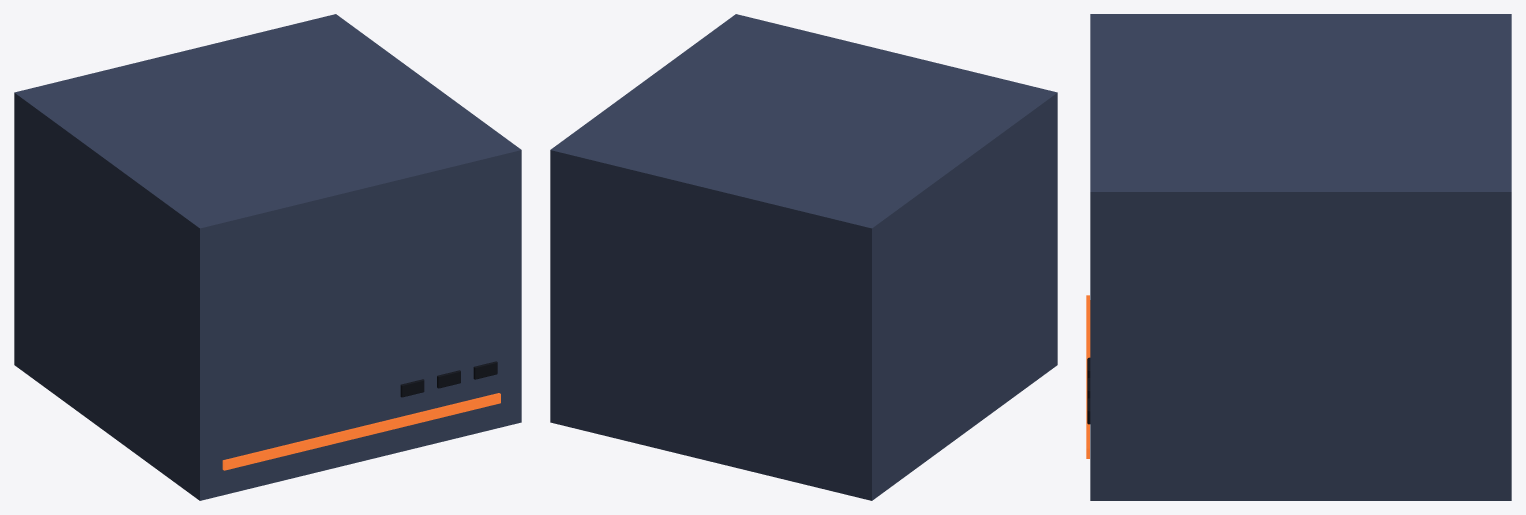
Rendered from edge.glb.
The picture shows the model from 3 angles, left to right: view 1: azimuth 30°, elevation 25°; view 2: azimuth 150°, elevation 25°; view 3: azimuth 270°, elevation 25°; orthographic projection. The views are drawn at different scales.
Visible parts, largest first — view 1: body (×2), status; view 2: body (×2); view 3: body (×2), status.
Part boxes in pixels (x1,y1,x2,y2): body (×2): [14, 14, 521, 500]; status: [222, 393, 500, 470]; body (×2): [550, 14, 1057, 500]; body (×2): [1090, 14, 1511, 500]; status: [1086, 295, 1089, 458].
Size of the model in its own units: 2.2 by 1.78 by 2.22.
